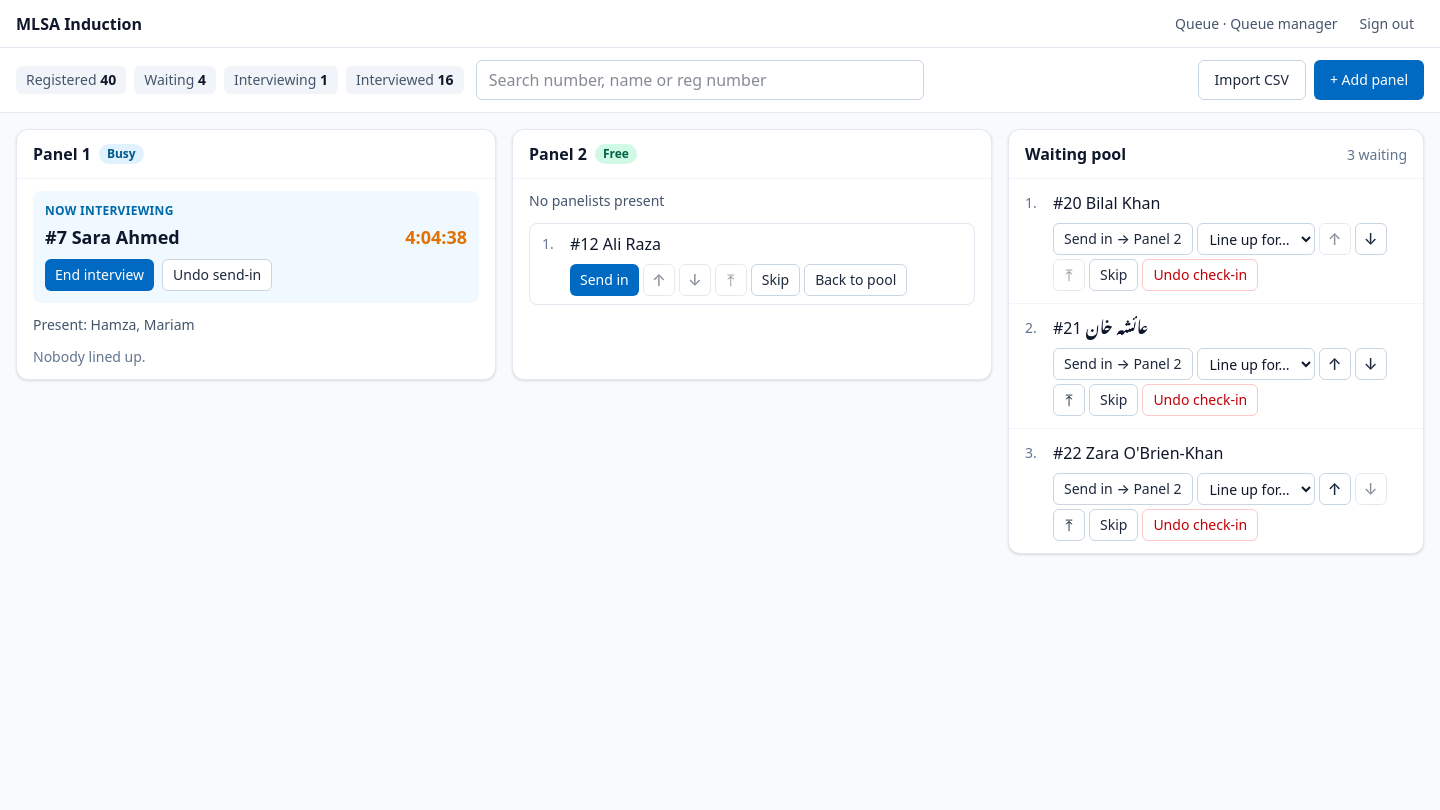
Scenario: QueuePage › finds a registered candidate and checks them in
The image size is (1440, 810).
Check: the element "Panel 1" is shown, box [16,129,496,380]
Type "hina" into the search field named "Search candidates" at (700, 80), box [476,60,924,100]
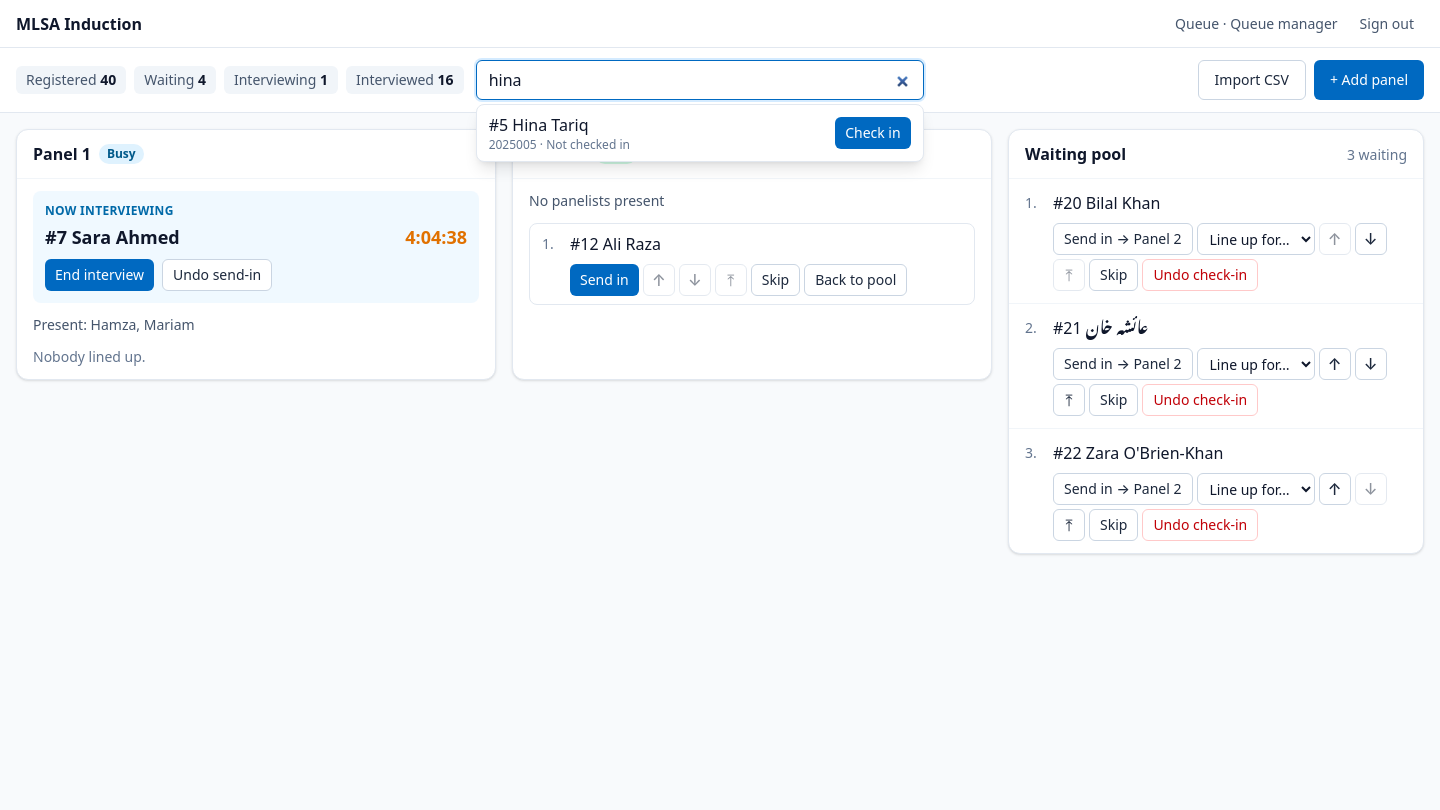
Check: the list named "Search results" shows "2025005 · Not checked in", box [477,105,923,161]
Click the button named "Check in #5" at (873, 133), box [835,117,911,149]
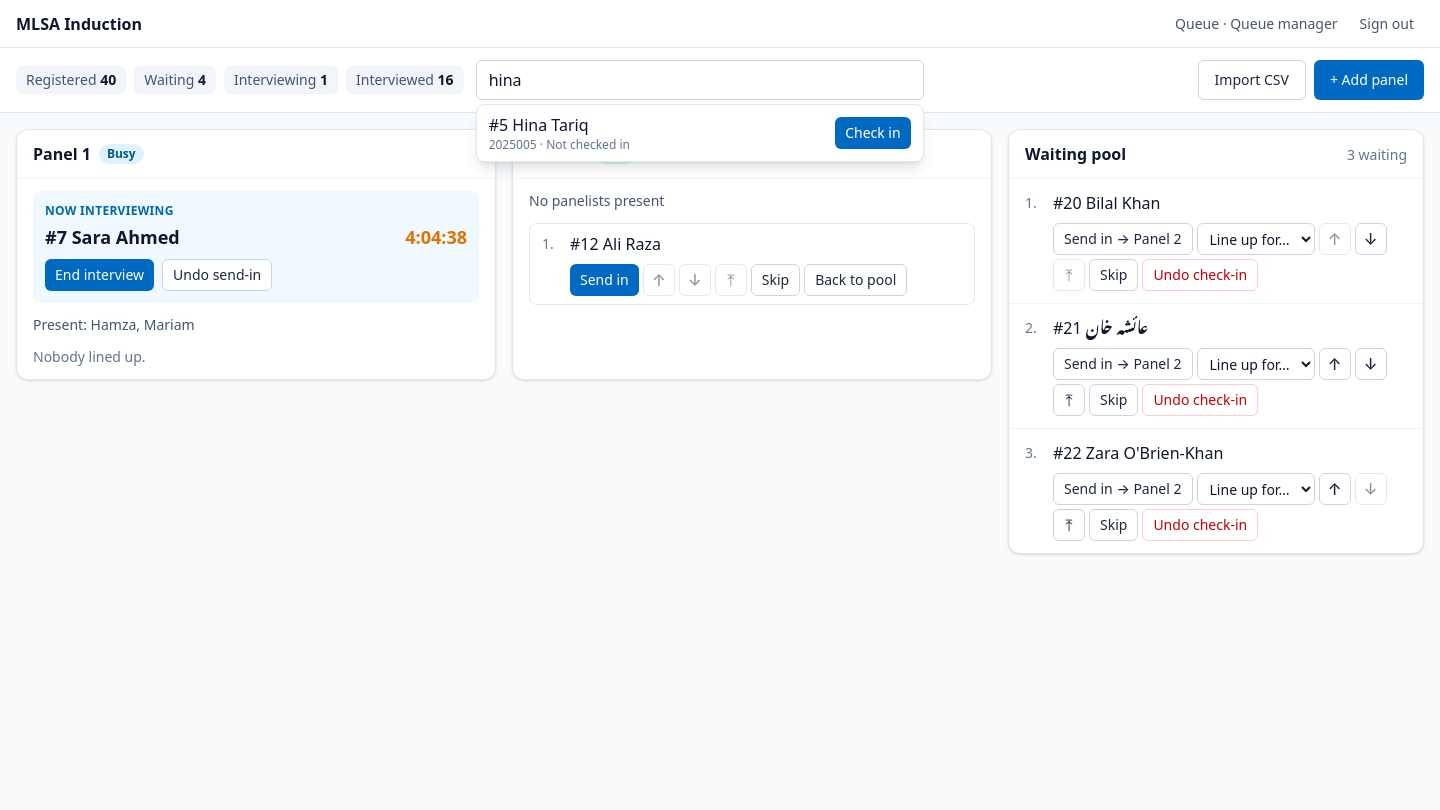
Replace the text in the search field named "Search candidates" with "#20" at (700, 80), box [476,60,924,100]
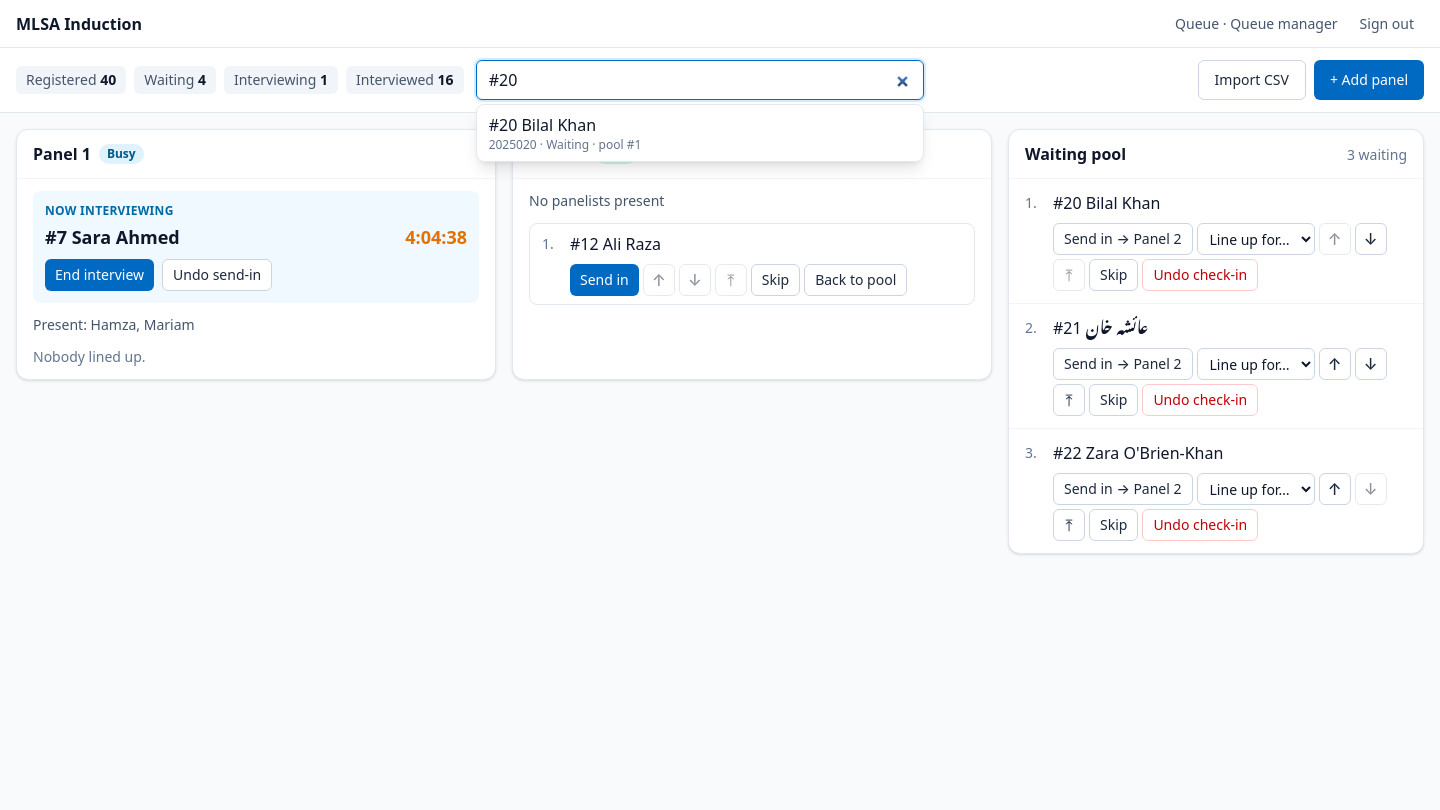
Check: the text "2025020 · Waiting · pool #1" is shown, box [489,136,641,153]
